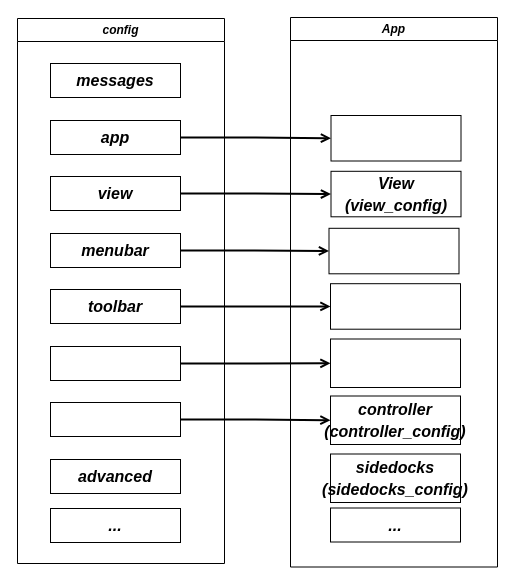
The diagram is 515 pixels wide and 585 high, and some of its shapes have lost their labels. Each missing label, with the centre of its shape:
App (app_config): (395,137)
controller: (115,419)
menubar (menubar_config): (393,250)
sidebar: (115,363)
sidebar ( sidebar_config): (395,363)
toolbar (toolbar_config): (395,306)
